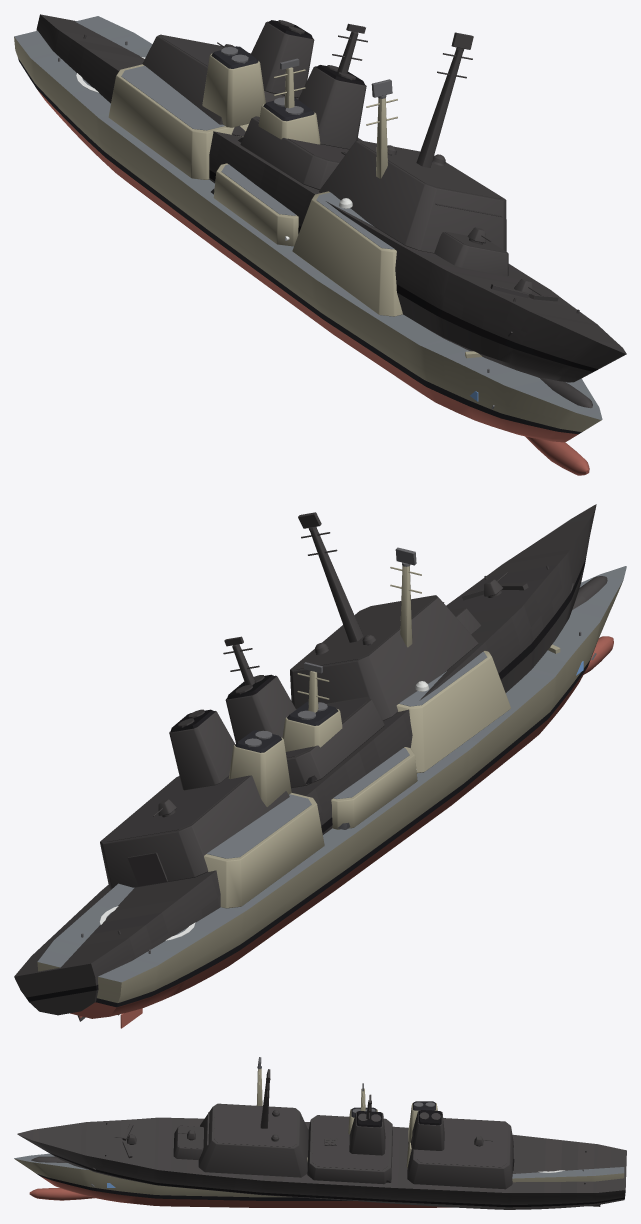
Rendered from asFrigate__type_31_uk.glb.
3 renders of one model, top to bottom at view 1: azimuth 30°, elevation 25°; view 2: azimuth 150°, elevation 25°; view 3: azimuth 270°, elevation 25°, orthographic. The views are drawn at different scales.
Parts seen in each view (by area): view 1: Hull_Mesh, Wreck; view 2: Wreck, Hull_Mesh; view 3: Wreck, Hull_Mesh.
Boxes of the visible parts, box(x1,y1,x2,y2) form: Hull_Mesh: box(14, 16, 602, 475); Wreck: box(36, 14, 626, 408); Wreck: box(14, 504, 607, 1021); Hull_Mesh: box(37, 566, 626, 1028); Wreck: box(17, 1069, 626, 1209); Hull_Mesh: box(14, 1068, 624, 1207).
Size of what is drawn, in the model's own units: 25.05 by 40.39 by 145.
